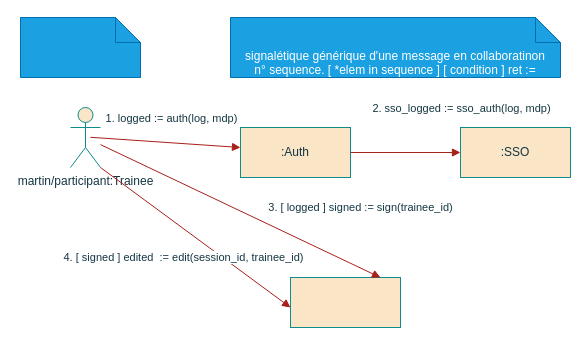
Image size: 588x345. Some labels were removed from this diagram. Each missing label, with the centre of its shape:
":Presence" goes at point 345,302.
"instance/rôle:Classe" goes at point 80,47.
